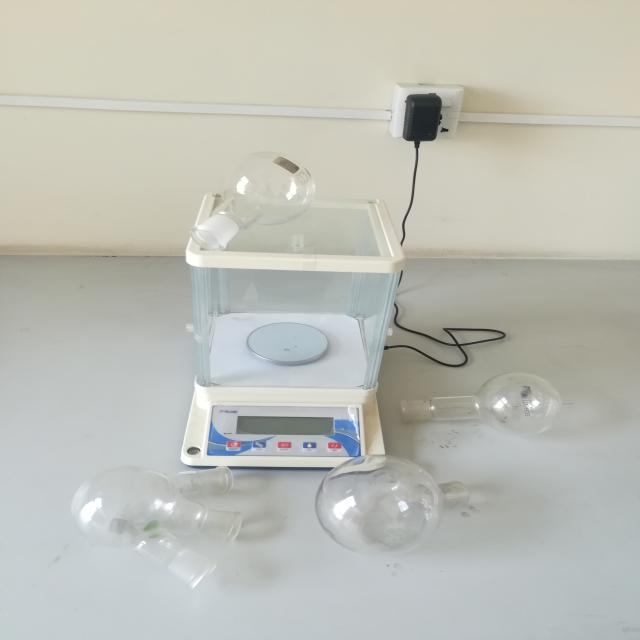Round_Bottom_Flask_Borosilicate_Glass_1_Neck: (177, 123, 344, 274), (381, 340, 585, 450)
Round_Bottom_Flask_Borosilicate_Glass_2_Neck: (308, 439, 523, 561)
Round_Bottom_Flask_Borosilicate_Glass_3_Neck: (63, 450, 268, 598)
